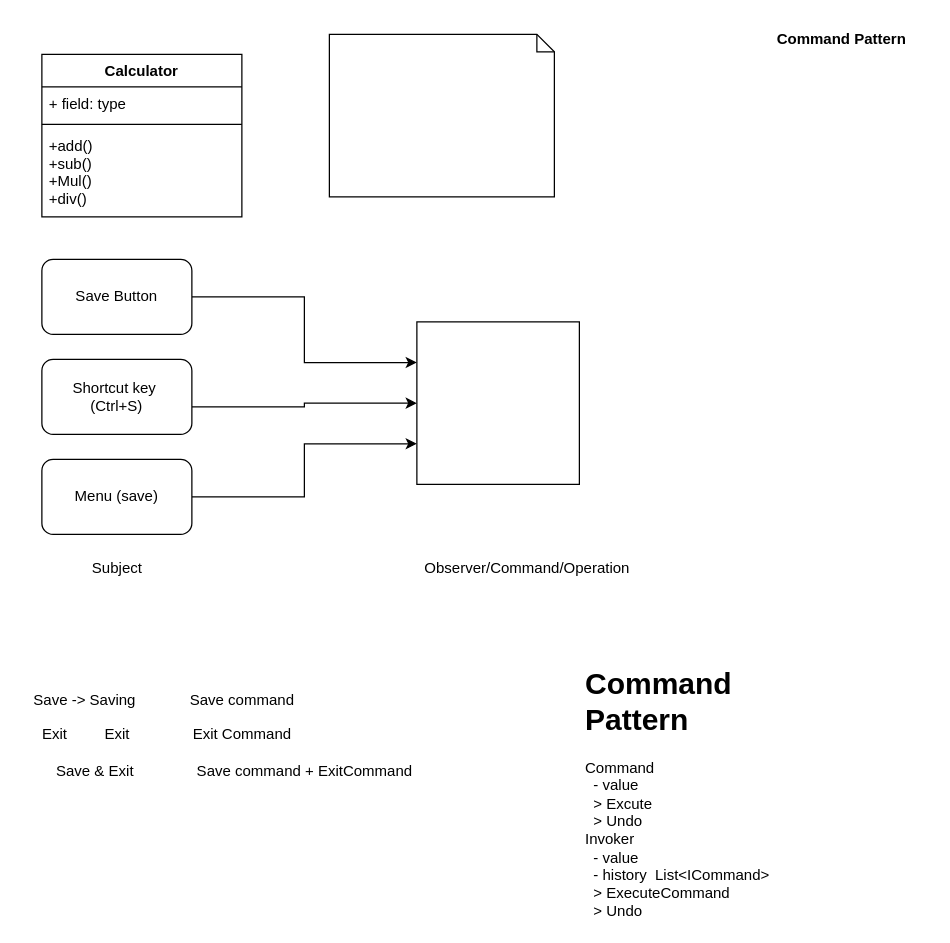
This 950x943 diagram has some shape labels left out. The centre of each missing label's shape, as x and y in pixels:
"Calculator myCal = new Calculator() myCal.add(10); myCal.mul(20);" belongs at (x=441, y=115).
"Save Operation" belongs at (x=497, y=402).
